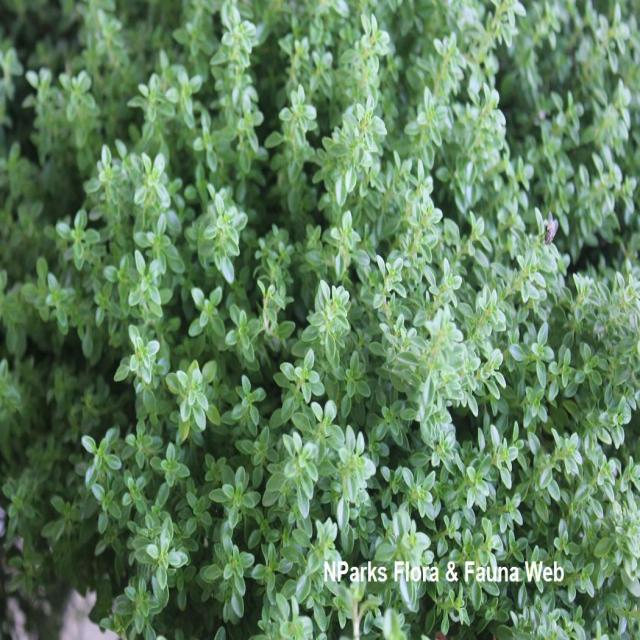Thyme: (11, 6, 640, 544)
